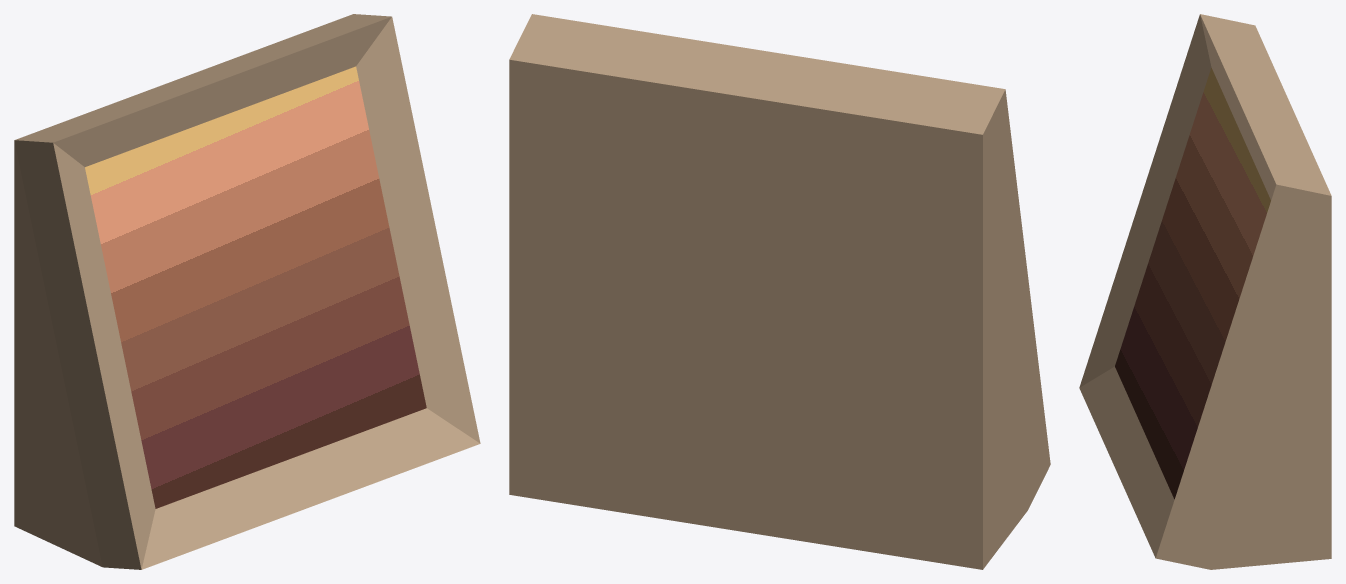
Rendered from Accesories_Photo.024.glb.
The picture shows the model from 3 angles, left to right: view 1: azimuth 30°, elevation 25°; view 2: azimuth 150°, elevation 25°; view 3: azimuth 270°, elevation 25°; orthographic projection. The views are drawn at different scales.
Visible parts, largest first — view 1: Accesories_Photo.024; view 2: Accesories_Photo.024; view 3: Accesories_Photo.024.
Boxes of the visible parts, left/top/right/bottom form: Accesories_Photo.024: left=14, top=14, right=480, bottom=569; Accesories_Photo.024: left=509, top=14, right=1050, bottom=569; Accesories_Photo.024: left=1079, top=14, right=1331, bottom=569.
Bounding box in the file's own units: 0.2151 × 0.2023 × 0.1211.
1 material, 1 textured.
